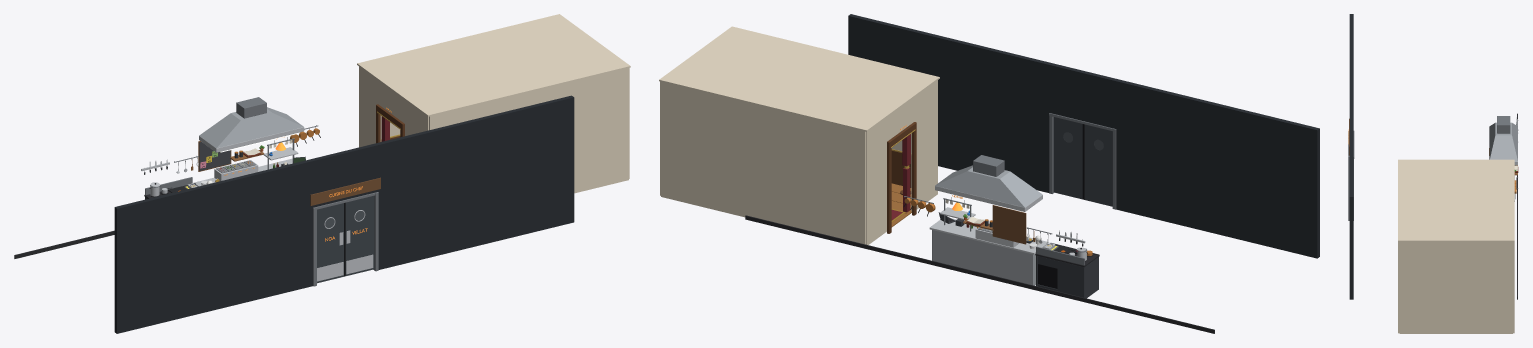
File: poste.glb
3 renders of one model, left to right at view 1: azimuth 30°, elevation 25°; view 2: azimuth 150°, elevation 25°; view 3: azimuth 270°, elevation 25°, orthographic. The views are drawn at different scales.
Visible parts, largest first — view 1: partition_l, partition_r, salle_ceil, salle_side_r, partition_top, door_R, hood_taper, door_L, salle_front_top, door_frame, sign, salle_front_a (+5 smaller); view 2: partition_l, salle_side_l, partition_r, salle_ceil, counter_body, partition_top, door_R, plinth, hood_taper, door_L, salle_front_top, salle_front_b (+8 smaller); view 3: salle_back, salle_ceil, hood_taper, partition_r, partition_l, door_frame, hood_duct, salle_side_l, salle_side_r.
Boxes of the visible parts, bbox=[...] form: partition_l: bbox=[114, 159, 314, 333]; partition_r: bbox=[374, 95, 574, 269]; salle_ceil: bbox=[357, 14, 630, 116]; salle_side_r: bbox=[429, 68, 628, 193]; partition_top: bbox=[313, 144, 376, 207]; door_R: bbox=[344, 196, 374, 276]; hood_taper: bbox=[199, 107, 303, 148]; door_L: bbox=[317, 203, 344, 283]; salle_front_top: bbox=[359, 66, 428, 134]; door_frame: bbox=[313, 192, 378, 286]; sign: bbox=[310, 177, 380, 205]; salle_front_a: bbox=[359, 97, 381, 147]; partition_l: bbox=[1114, 79, 1319, 258]; salle_side_l: bbox=[661, 82, 866, 244]; partition_r: bbox=[848, 14, 1053, 192]; salle_ceil: bbox=[659, 26, 939, 131]; counter_body: bbox=[932, 230, 1035, 285]; partition_top: bbox=[1051, 63, 1116, 128]; door_R: bbox=[1053, 117, 1084, 199]; plinth: bbox=[745, 215, 1214, 333]; hood_taper: bbox=[935, 165, 1042, 207]; door_L: bbox=[1084, 124, 1112, 206]; salle_front_top: bbox=[866, 80, 937, 162]; salle_front_b: bbox=[911, 111, 937, 211]; salle_back: bbox=[1399, 242, 1512, 333]; salle_ceil: bbox=[1398, 159, 1514, 241]; hood_taper: bbox=[1489, 122, 1517, 161]; partition_r: bbox=[1349, 117, 1353, 299]; partition_l: bbox=[1349, 14, 1353, 93]; door_frame: bbox=[1348, 131, 1354, 220]; hood_duct: bbox=[1497, 116, 1510, 133]; salle_side_l: bbox=[1513, 242, 1514, 333]; salle_side_r: bbox=[1398, 242, 1399, 333].
Size of the model in its own units: 15.45 by 3.45 by 5.11.
